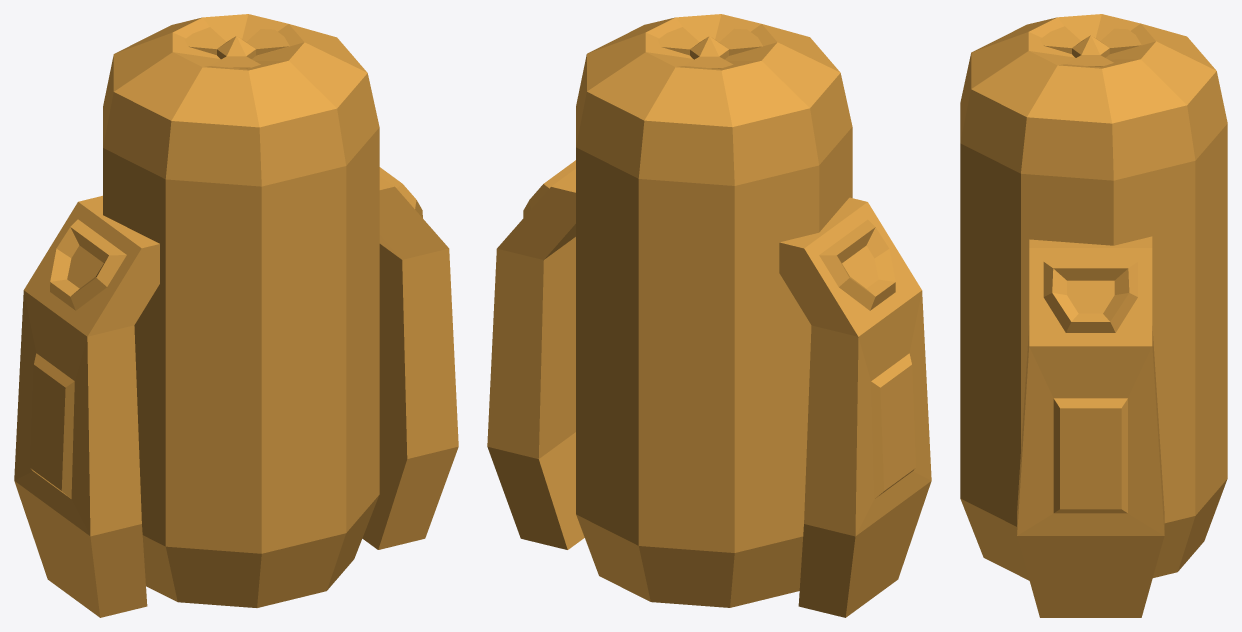
The model's file is scifi-oxygen-generator.fbx.
The picture shows the model from 3 angles, left to right: view 1: azimuth 30°, elevation 25°; view 2: azimuth 150°, elevation 25°; view 3: azimuth 270°, elevation 25°; orthographic projection. The views are drawn at different scales.
Parts seen in each view (by area): view 1: scifi-oxygen-generator; view 2: scifi-oxygen-generator; view 3: scifi-oxygen-generator.
Boxes of the visible parts, x1,y1,x2,y2 form: scifi-oxygen-generator: (14, 14, 458, 617); scifi-oxygen-generator: (487, 14, 931, 617); scifi-oxygen-generator: (960, 14, 1227, 617).
Size of the model in its own units: 1.62 by 2.13 by 1.02.
